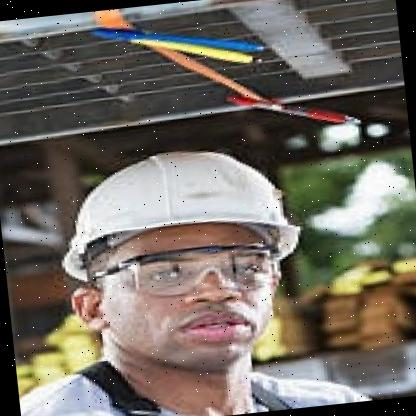capacete: (51, 136, 310, 286)
oculos: (88, 238, 284, 306)
